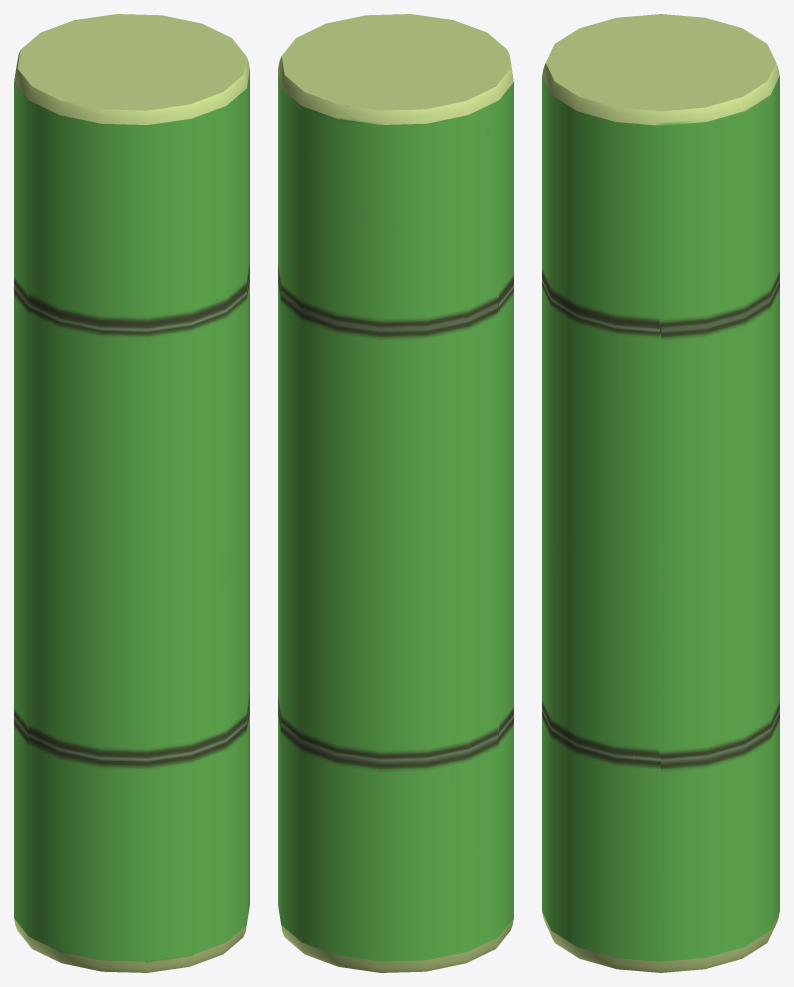
File: SD_SugarCaneV2.fbx
3 renders of one model, left to right at view 1: azimuth 30°, elevation 25°; view 2: azimuth 150°, elevation 25°; view 3: azimuth 270°, elevation 25°, orthographic.
Parts seen in each view (by area): view 1: SugarcamV2; view 2: SugarcamV2; view 3: SugarcamV2.
Part boxes in pixels (<box>): SugarcamV2: <box>14,14,249,972</box>; SugarcamV2: <box>278,14,513,972</box>; SugarcamV2: <box>542,14,779,972</box>.
Size of the model in its own units: 25 by 100 by 25.
1 material, 1 textured.
